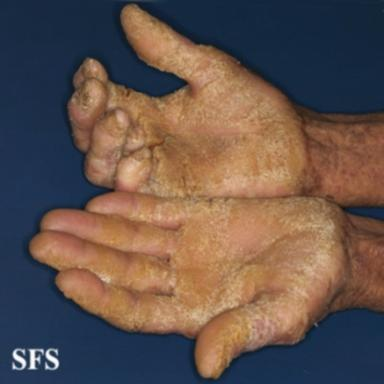Darier_s-Disease: (30, 192, 344, 377), (69, 4, 320, 198)
